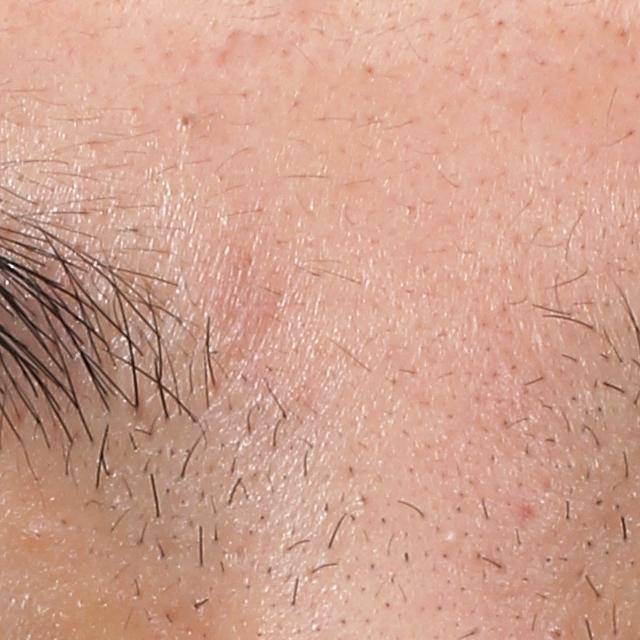atrophic_scar: (212, 23, 280, 79)
comedo: (173, 109, 197, 133), (445, 527, 461, 548)
